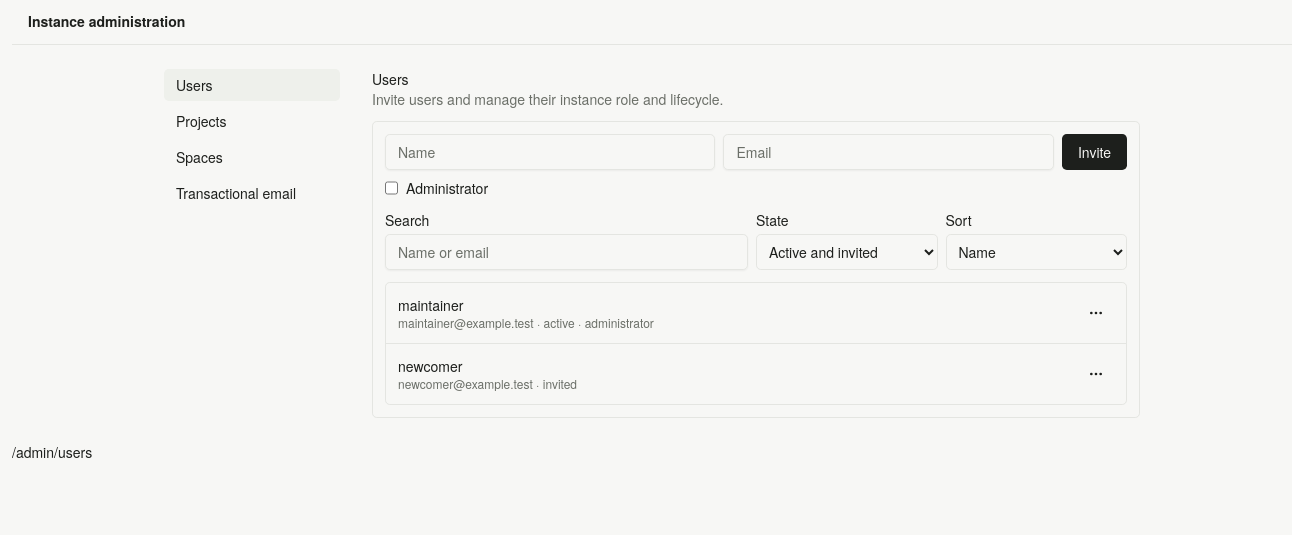
Test: does not report a resent invitation that did not go out
The width and height of the screenshot is (1292, 535).
Click the button named "Actions for newcomer" at (1096, 374), box [1078,358,1114,390]
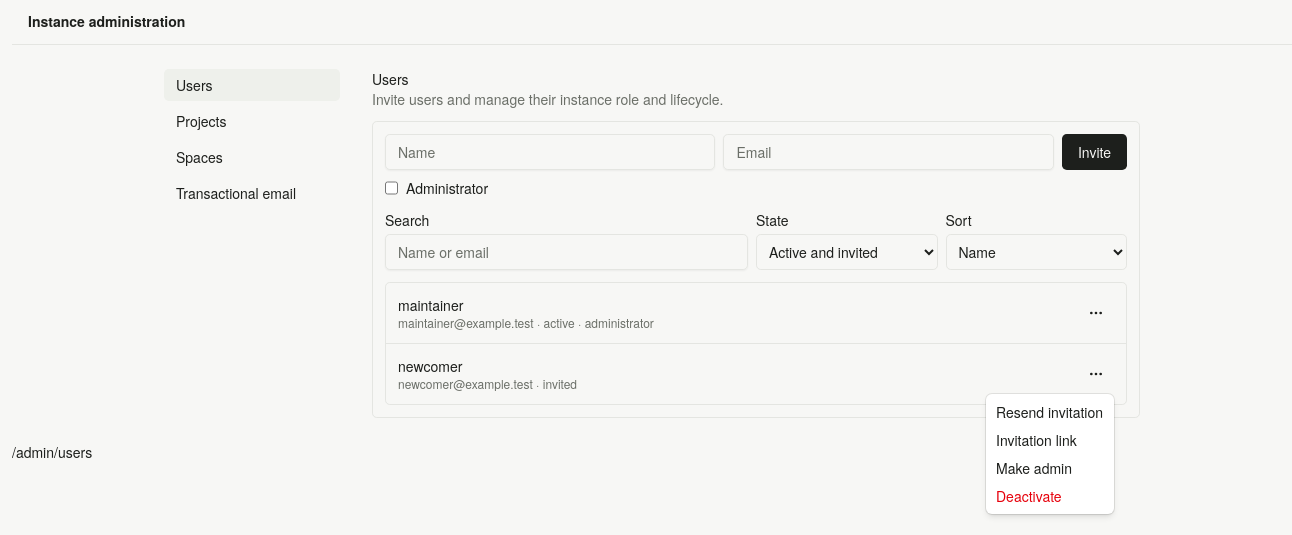
Click the menu item "Resend invitation" at (1050, 412), box [990,398,1110,426]
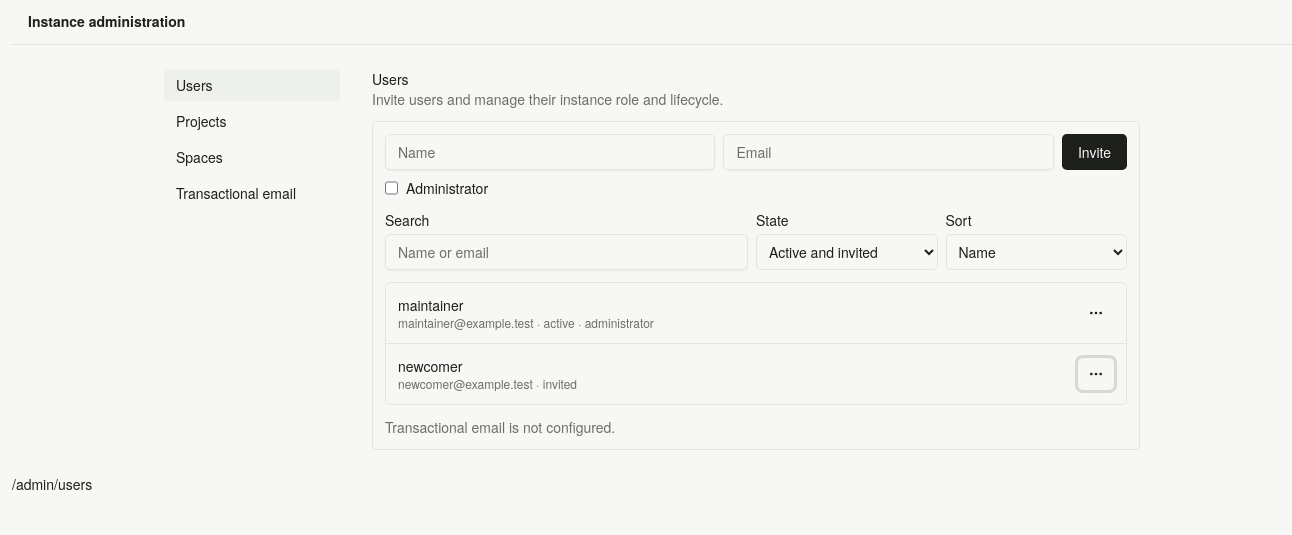
Expected: the message does not show "Invitation resent.", [385,417,615,437]
Now the message reads "Transactional email is not configured.", box [385,417,615,437]
